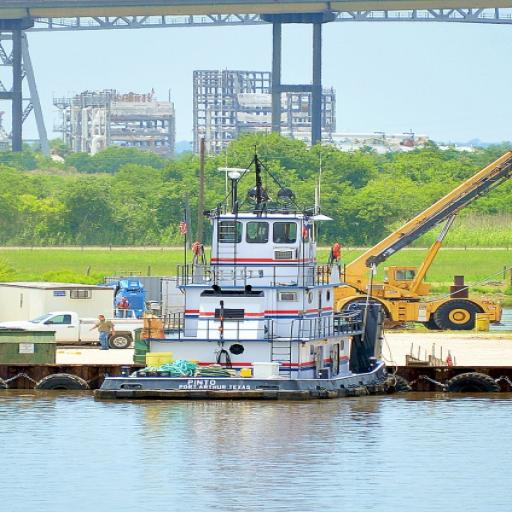tugboat: (87, 163, 403, 406)
